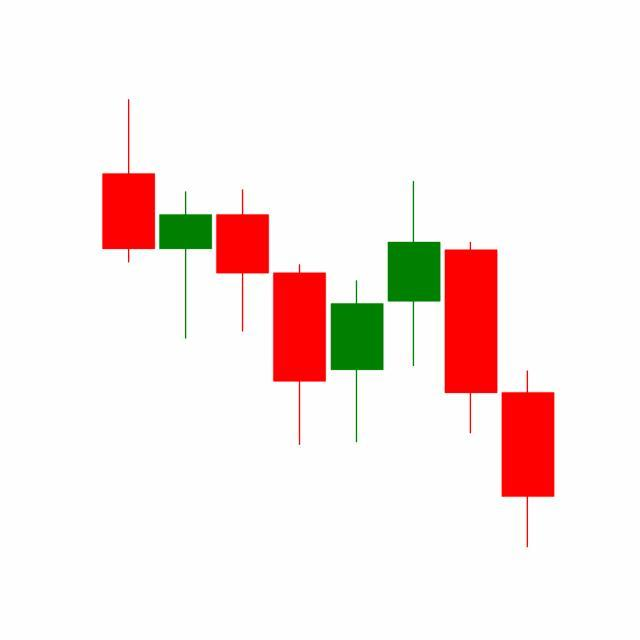Hikkake Pattern: (270, 177, 555, 549)
